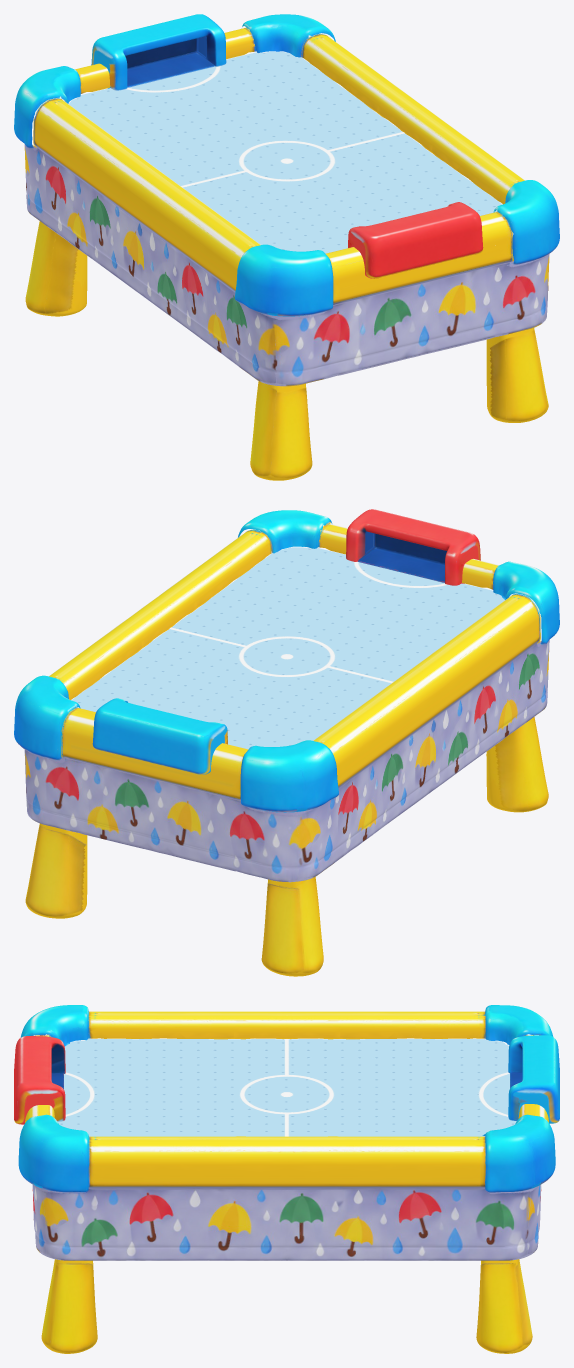
File: table-rainy.glb
The picture shows the model from 3 angles, top to bottom: view 1: azimuth 30°, elevation 25°; view 2: azimuth 150°, elevation 25°; view 3: azimuth 270°, elevation 25°; orthographic projection. The views are drawn at different scales.
Visible parts, largest first — view 1: table; view 2: table; view 3: table.
Part boxes in pixels (x1,y1,x2,y2): table: [14, 14, 559, 480]; table: [14, 509, 559, 976]; table: [14, 1005, 559, 1353].
Size of the model in its own units: 7.88 by 5.68 by 12.31.
Materials: 2 (2 with a texture image).
